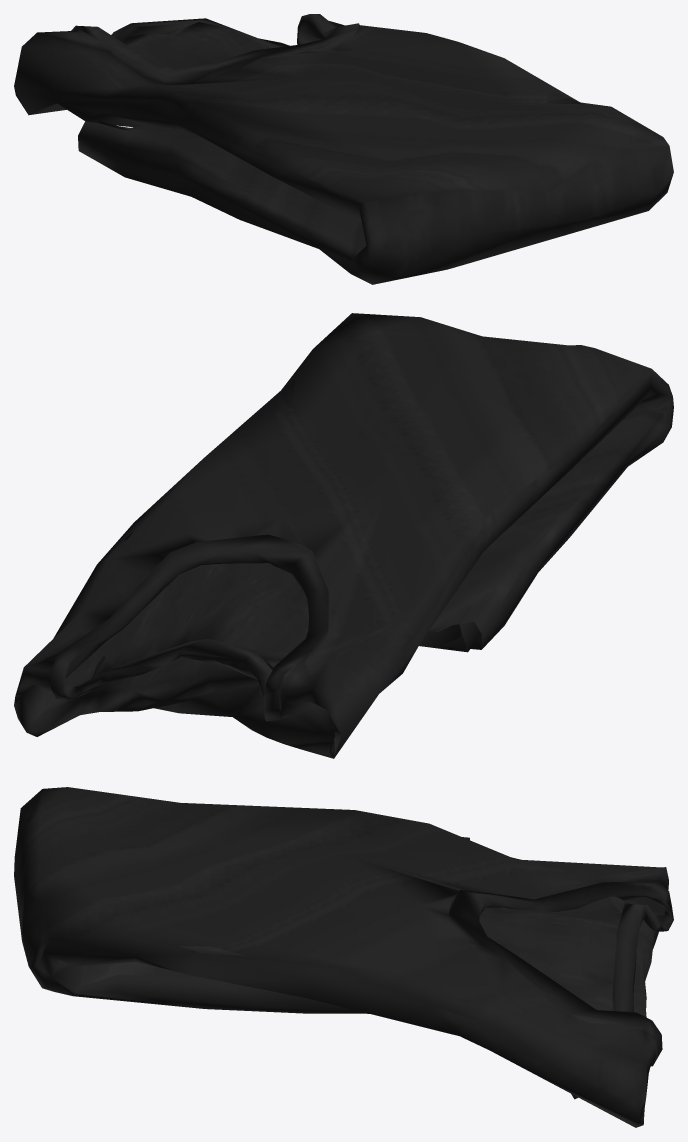
Rendered from hvfold_cloth4554.glb.
3 views of the same model, one above another, from view 1: azimuth 30°, elevation 25°; view 2: azimuth 150°, elevation 25°; view 3: azimuth 270°, elevation 25° (orthographic). The views are drawn at different scales.
Parts seen in each view (by area): view 1: BP_cloth4554; view 2: BP_cloth4554; view 3: BP_cloth4554.
Part boxes in pixels (x1,y1,x2,y2): BP_cloth4554: [14, 14, 673, 284]; BP_cloth4554: [14, 313, 673, 758]; BP_cloth4554: [14, 787, 673, 1127].
Bounding box in the file's own units: 0.2124 × 0.1171 × 0.34.
Materials: 1 (1 with a texture image).
